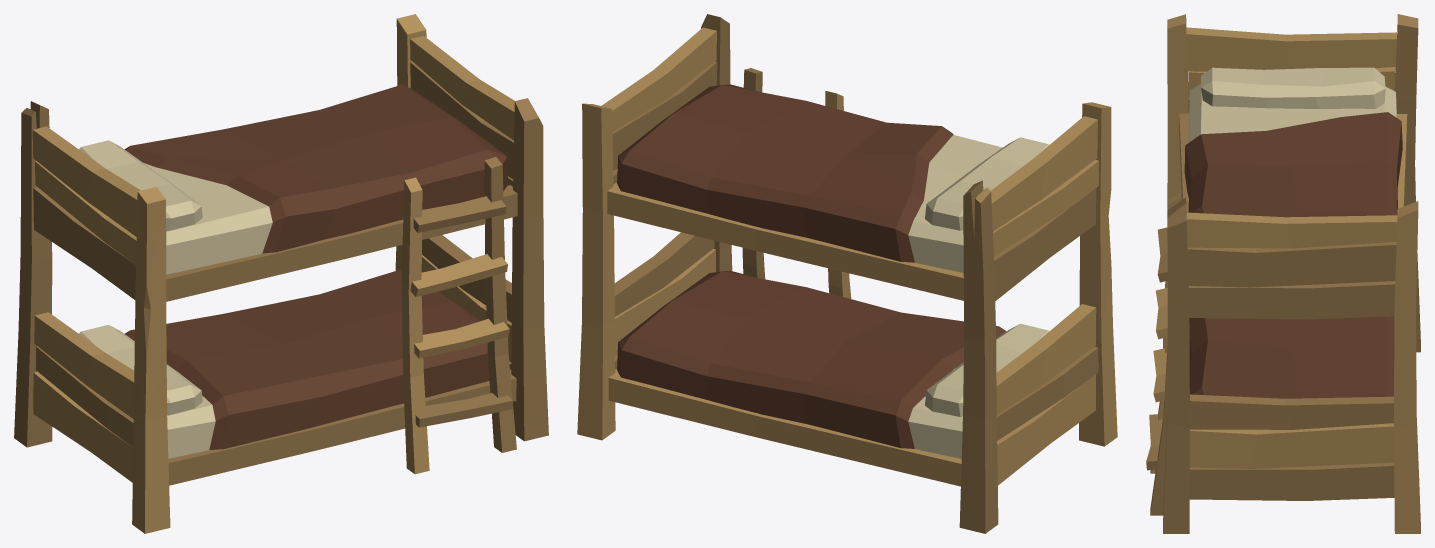
Rendered from Bunk_Bed.gltf.
3 views of the same model, side by side, from view 1: azimuth 30°, elevation 25°; view 2: azimuth 150°, elevation 25°; view 3: azimuth 270°, elevation 25° (orthographic). The views are drawn at different scales.
Visible parts, largest first — view 1: Bunk_Bed2; view 2: Bunk_Bed2; view 3: Bunk_Bed2.
Boxes of the visible parts, x1,y1,x2,y2 form: Bunk_Bed2: [14, 14, 548, 533]; Bunk_Bed2: [577, 14, 1117, 533]; Bunk_Bed2: [1146, 14, 1420, 533].
Bounding box in the file's own units: 0.6341 × 0.5071 × 0.3794.
1 material, 1 textured.
